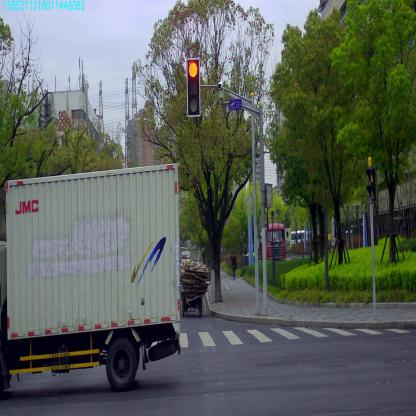traffic-light: (187, 58, 200, 115)
